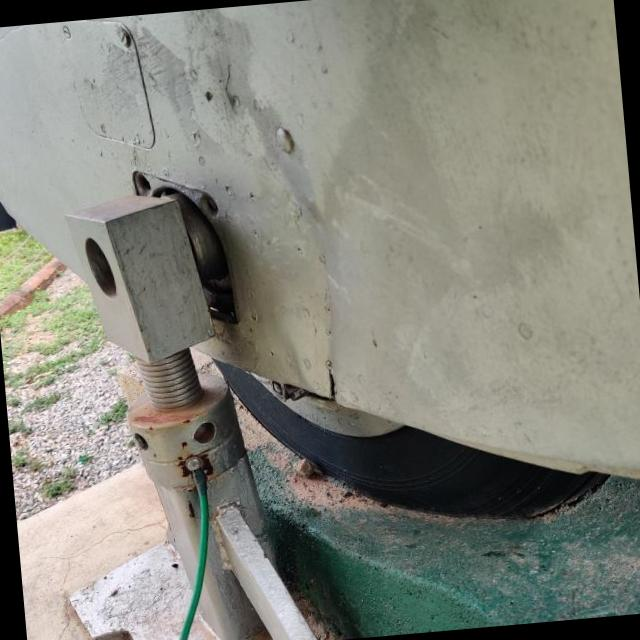Crack: (328, 370, 335, 400)
